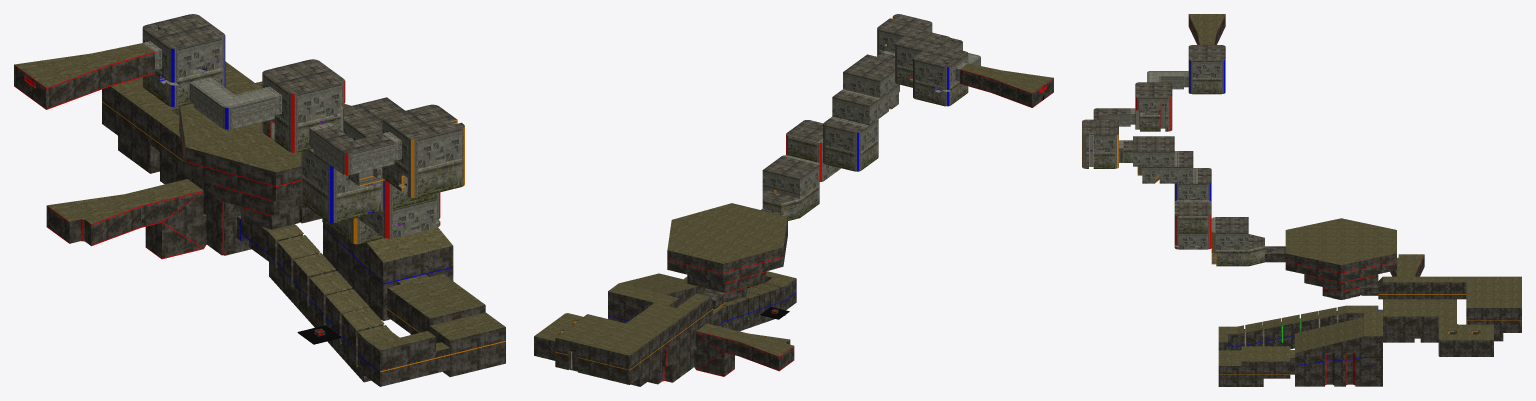
The model's file is bhop_ytt_neon_light.glb.
3 views of the same model, side by side, from view 1: azimuth 30°, elevation 25°; view 2: azimuth 150°, elevation 25°; view 3: azimuth 270°, elevation 25° (orthographic). The views are drawn at different scales.
Parts seen in each view (by area): view 1: bhop_ytt_neon_light_static; view 2: bhop_ytt_neon_light_static; view 3: bhop_ytt_neon_light_static.
Boxes of the visible parts, <box> form: bhop_ytt_neon_light_static: <box>14,14,505,386</box>; bhop_ytt_neon_light_static: <box>534,14,1053,386</box>; bhop_ytt_neon_light_static: <box>1082,14,1521,386</box>.
Bounding box in the file's own units: 119 × 93.47 × 154.
41 materials, 41 textured.
